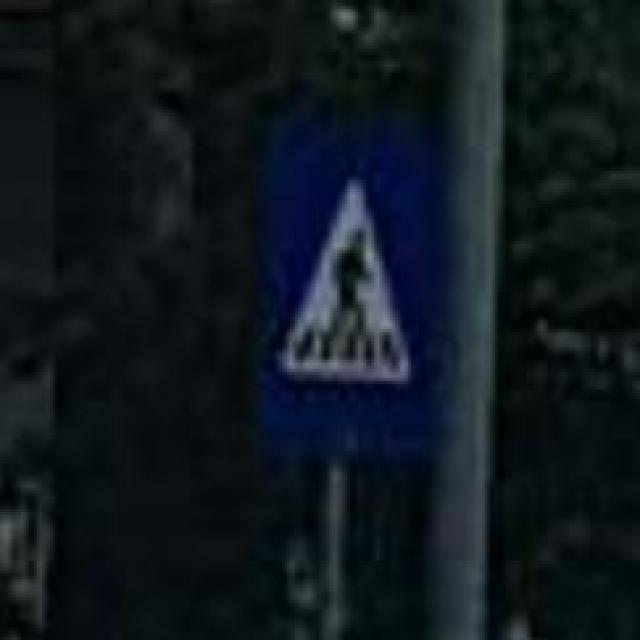traffic sign: (253, 155, 430, 436)
